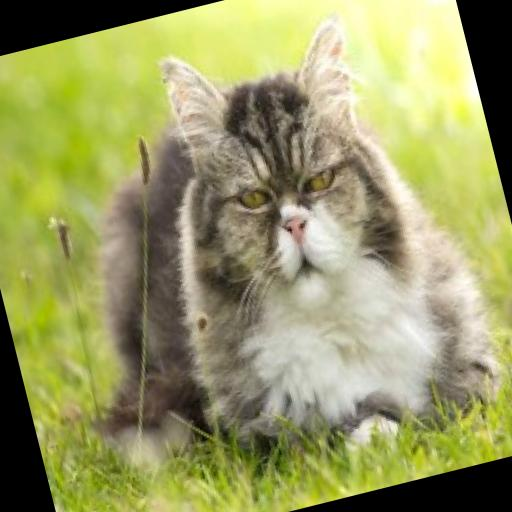cat: (18, 0, 508, 507)
